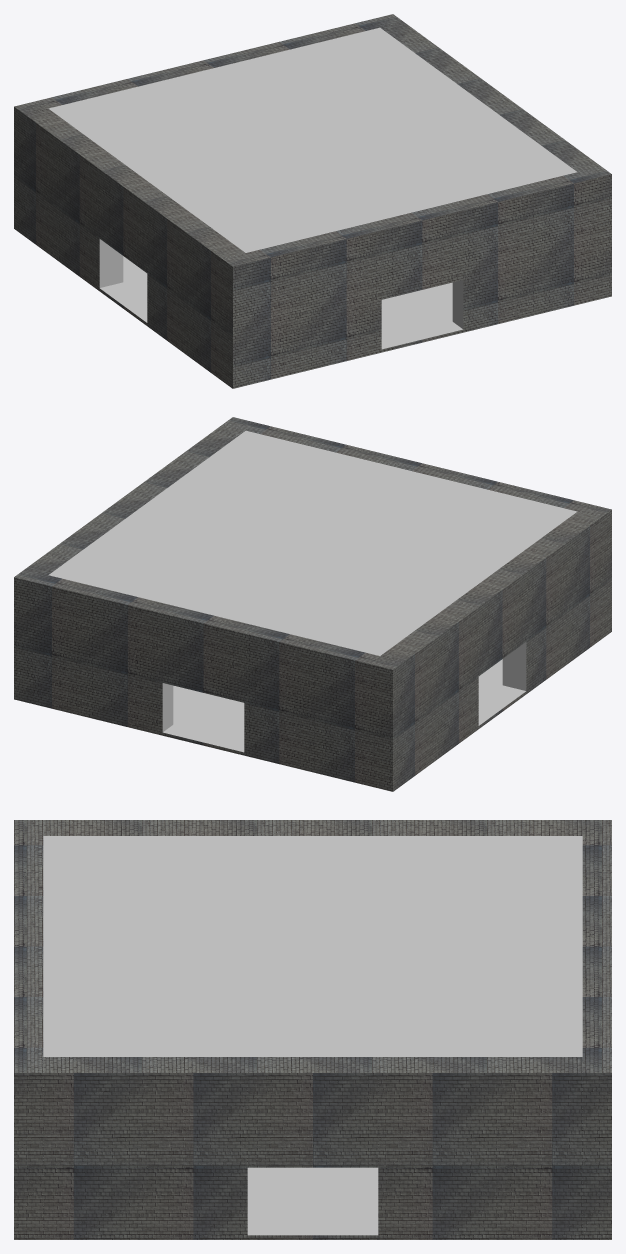
Rendered from Evacuate_Structure.fbx.
3 renders of one model, top to bottom at view 1: azimuth 30°, elevation 25°; view 2: azimuth 150°, elevation 25°; view 3: azimuth 270°, elevation 25°, orthographic. The views are drawn at different scales.
Visible parts, largest first — view 1: Evacute_Structure; view 2: Evacute_Structure; view 3: Evacute_Structure.
Boxes of the visible parts, bbox=[...] form: Evacute_Structure: bbox=[14, 14, 611, 388]; Evacute_Structure: bbox=[14, 417, 611, 791]; Evacute_Structure: bbox=[14, 820, 611, 1239].
Size of what is drawn, in the model's own units: 40000 by 12323 by 40000.
